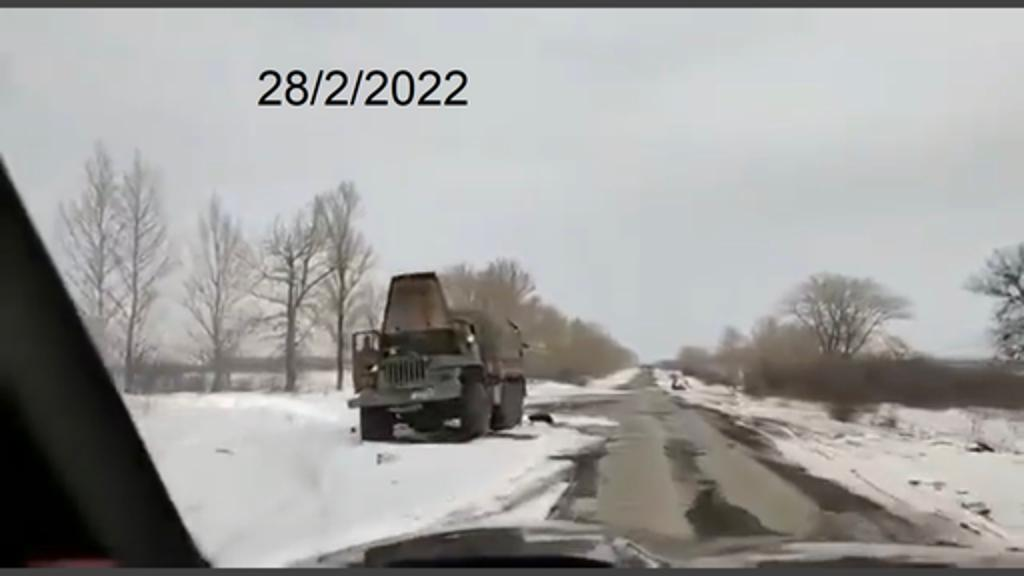TRUCK: (346, 266, 530, 444)
